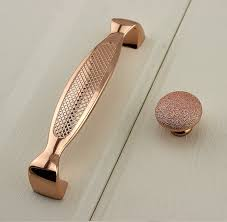handle: (20, 25, 147, 202), (155, 92, 213, 146)
